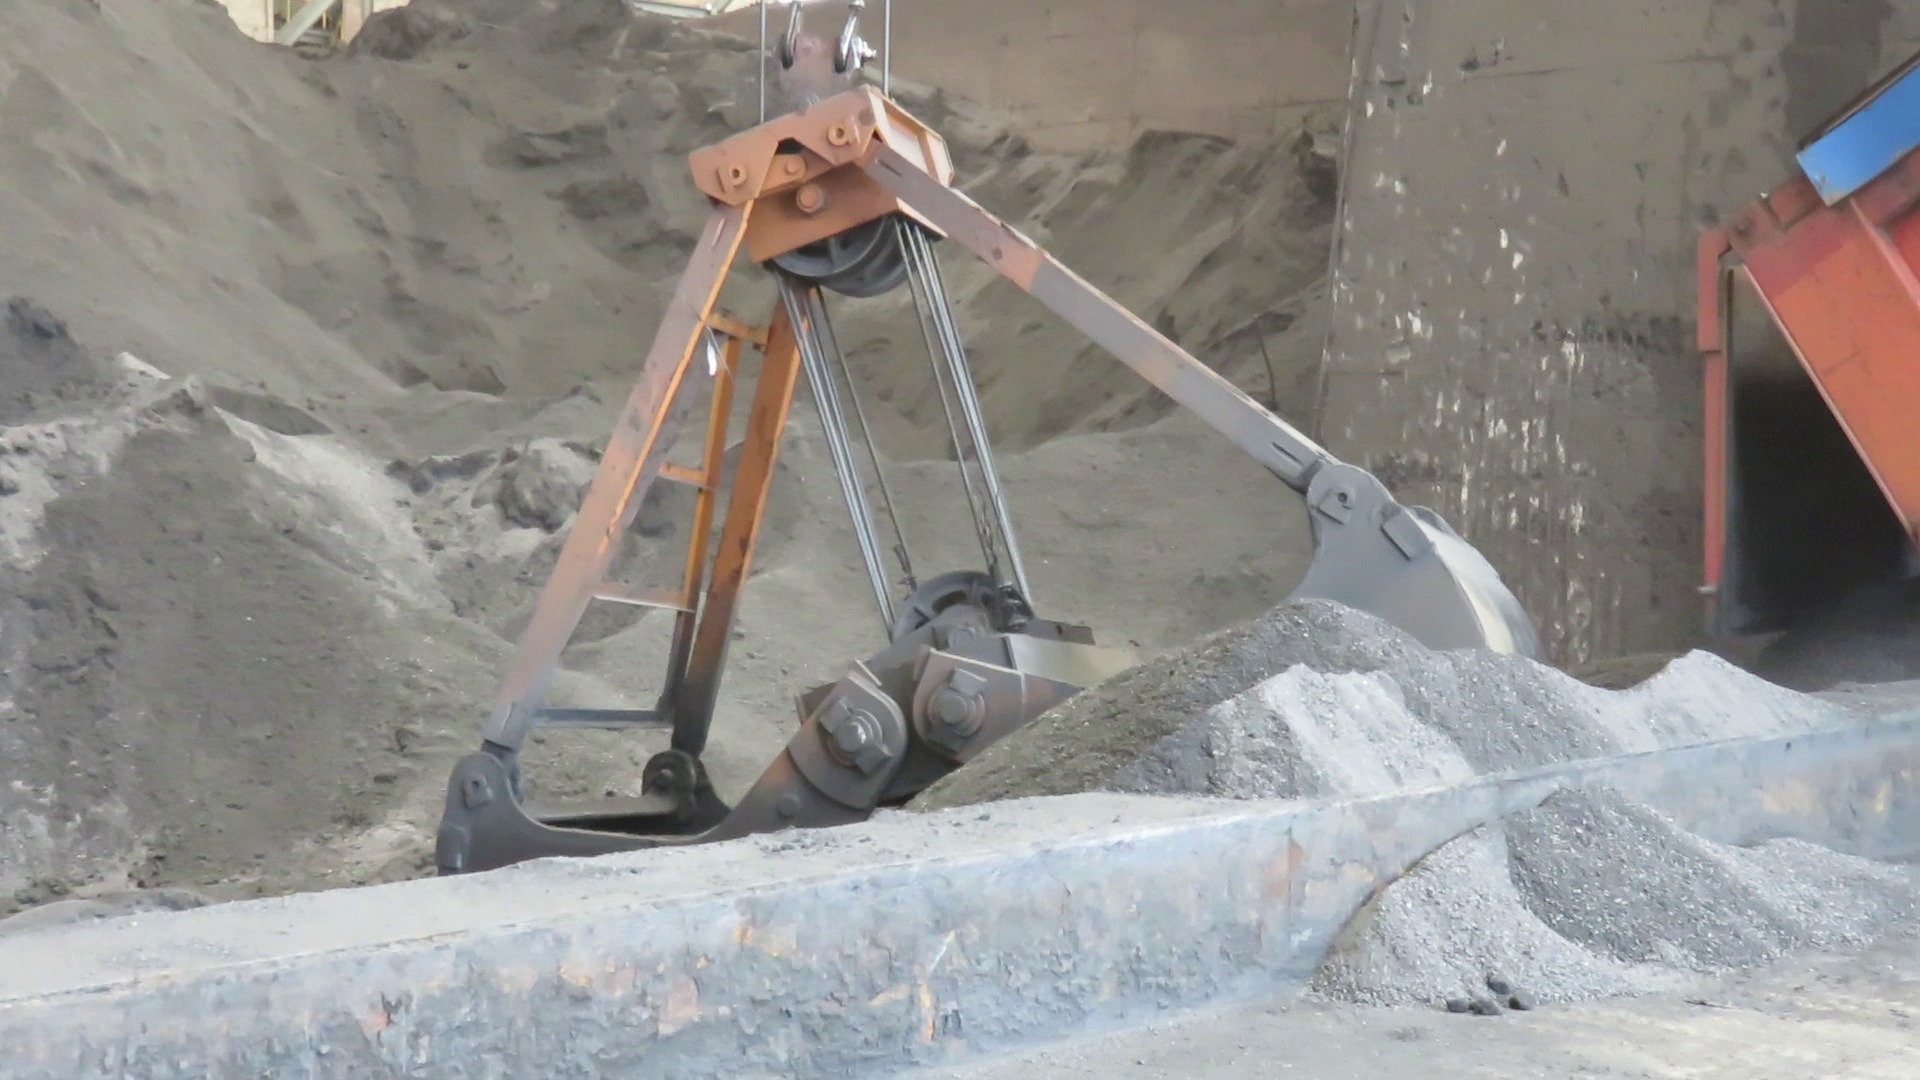grab: (425, 0, 1553, 887)
